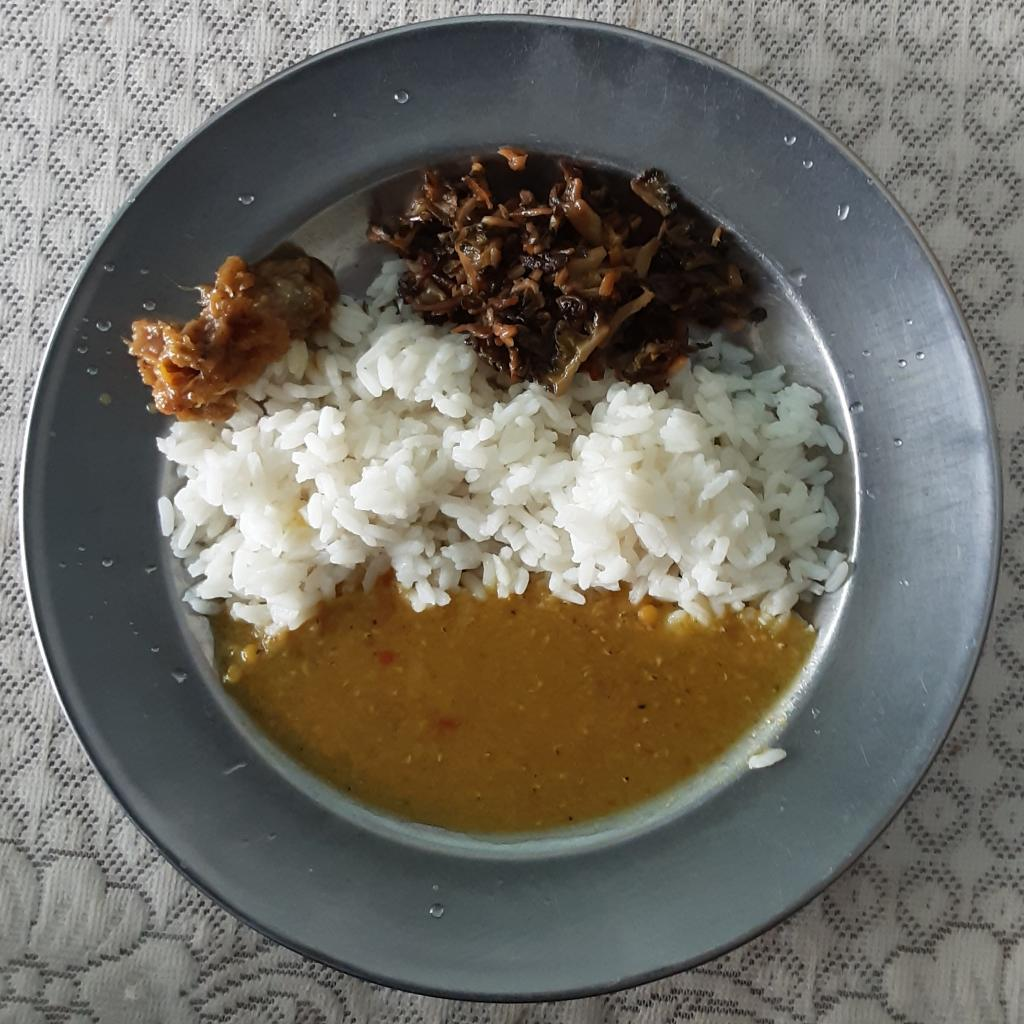achar: (128, 236, 335, 417)
daal: (212, 570, 807, 836)
korola-vaji: (366, 145, 763, 386)
potato: (456, 173, 661, 377)
rice: (158, 258, 848, 637), (743, 747, 787, 773)
